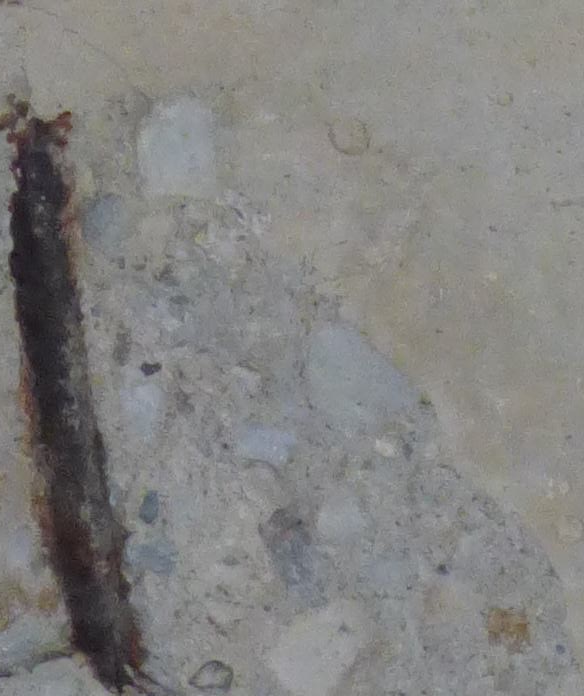Exposed reinforcement: (4, 114, 150, 696)
Spalling: (1, 81, 584, 696)
